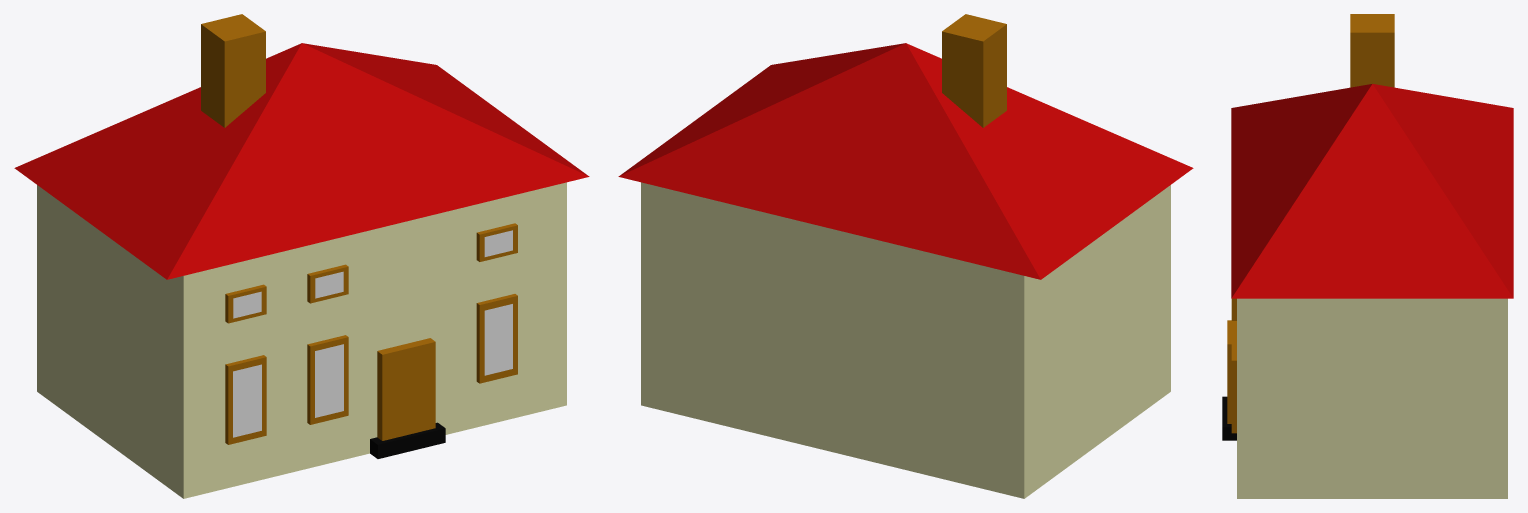
Rendered from household_icon.fbx.
3 renders of one model, left to right at view 1: azimuth 30°, elevation 25°; view 2: azimuth 150°, elevation 25°; view 3: azimuth 270°, elevation 25°, orthographic. The views are drawn at different scales.
Parts seen in each view (by area): view 1: polySurface5; view 2: polySurface5; view 3: polySurface5.
Part boxes in pixels (left/top/right/bottom): polySurface5: left=14, top=14, right=589, bottom=498; polySurface5: left=618, top=14, right=1193, bottom=498; polySurface5: left=1222, top=14, right=1513, bottom=498.
Bounding box in the file's own units: 8.4 × 7.36 × 5.43.
